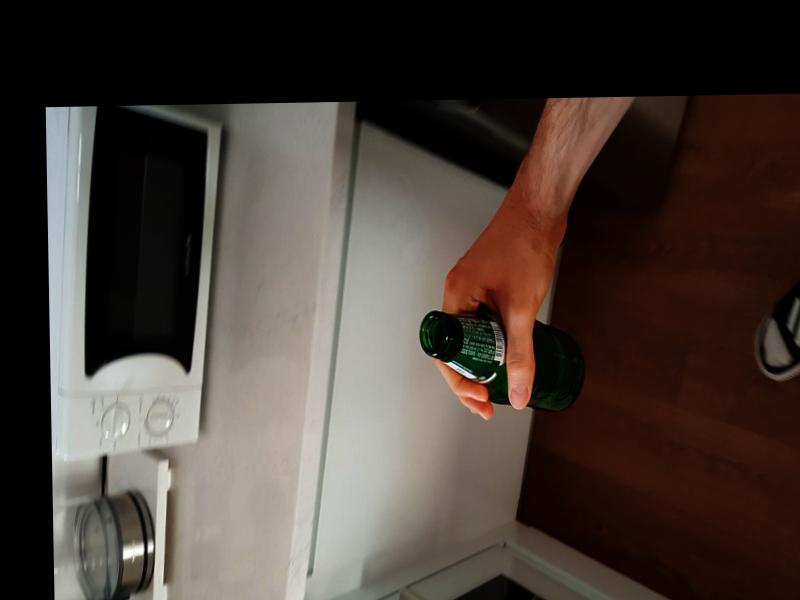Beer: (421, 308, 586, 414)
